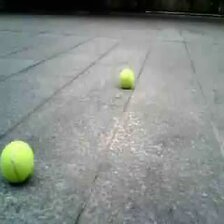tennis: (1, 140, 33, 181), (120, 70, 136, 88)
